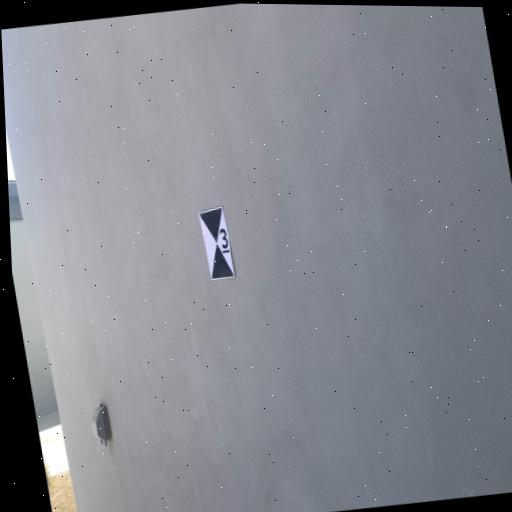target3: (198, 207, 236, 280)
